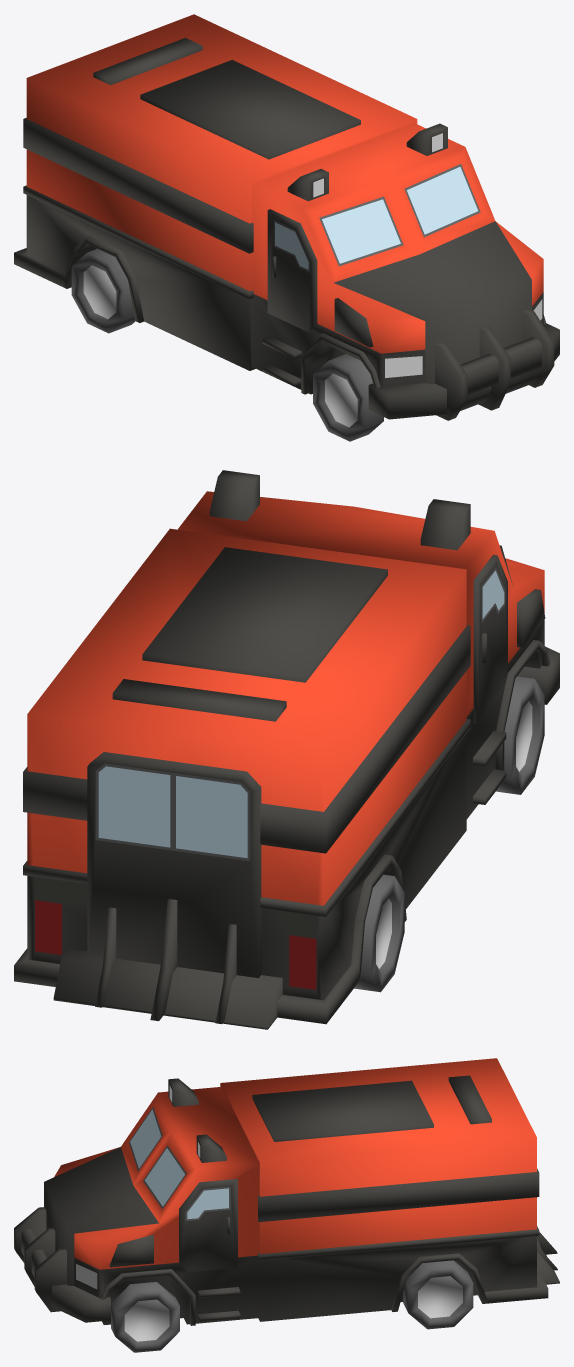
The model's file is truck2only.glb.
The picture shows the model from 3 angles, top to bottom: view 1: azimuth 30°, elevation 25°; view 2: azimuth 150°, elevation 25°; view 3: azimuth 270°, elevation 25°; orthographic projection. The views are drawn at different scales.
Parts seen in each view (by area): view 1: Main_Truck_1.001; view 2: Main_Truck_1.001; view 3: Main_Truck_1.001.
Boxes of the visible parts, x1=… form: Main_Truck_1.001: x1=14, y1=14, x2=559, y2=441; Main_Truck_1.001: x1=14, y1=470, x2=559, y2=1029; Main_Truck_1.001: x1=14, y1=1058, x2=559, y2=1352.
Size of the model in its own units: 40.39 by 29.6 by 75.54.
Materials: 1 (1 with a texture image).
